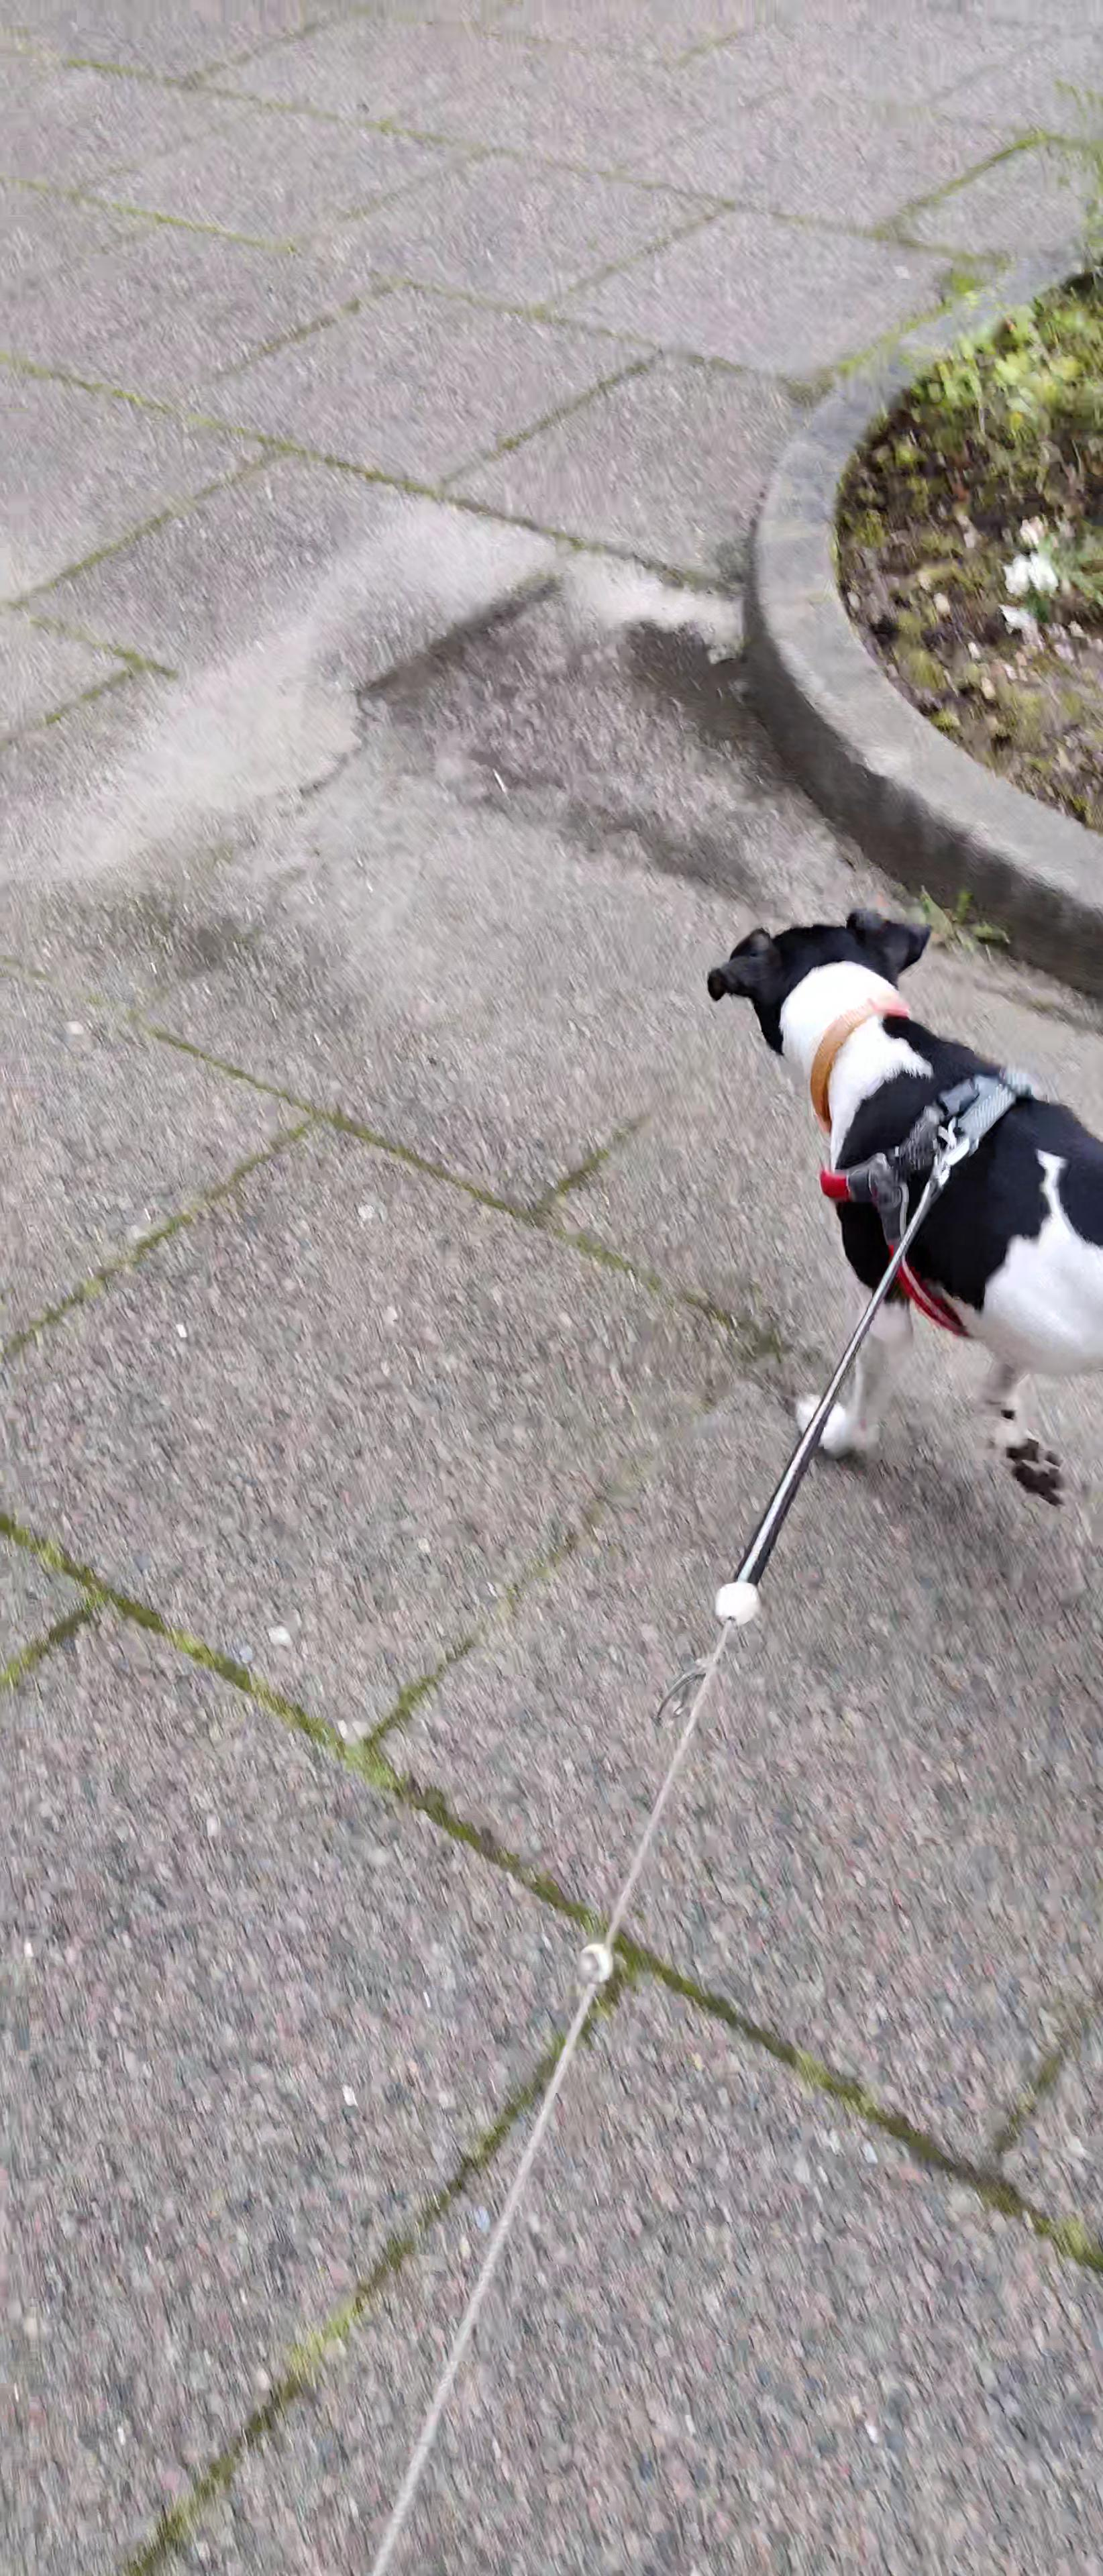Dog: (694, 885, 1103, 1521)
